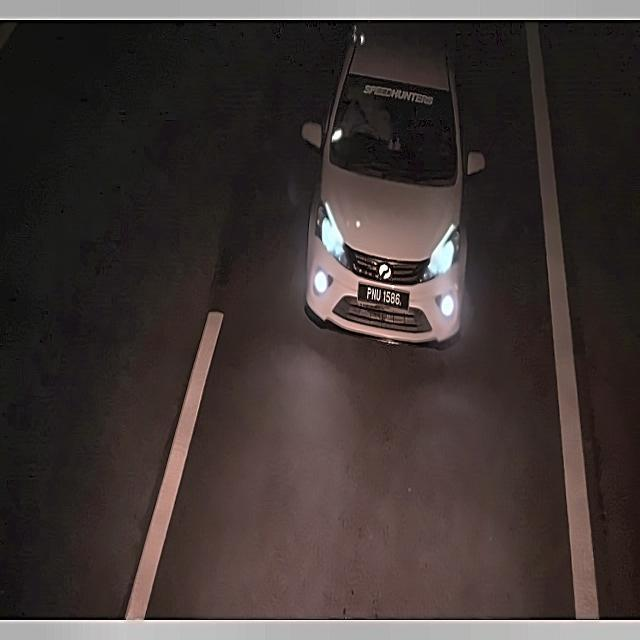car: (352, 275, 412, 316)
